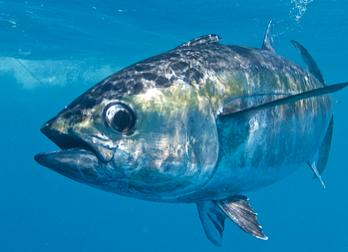Scombridae -Tunas-: (31, 16, 348, 249)
